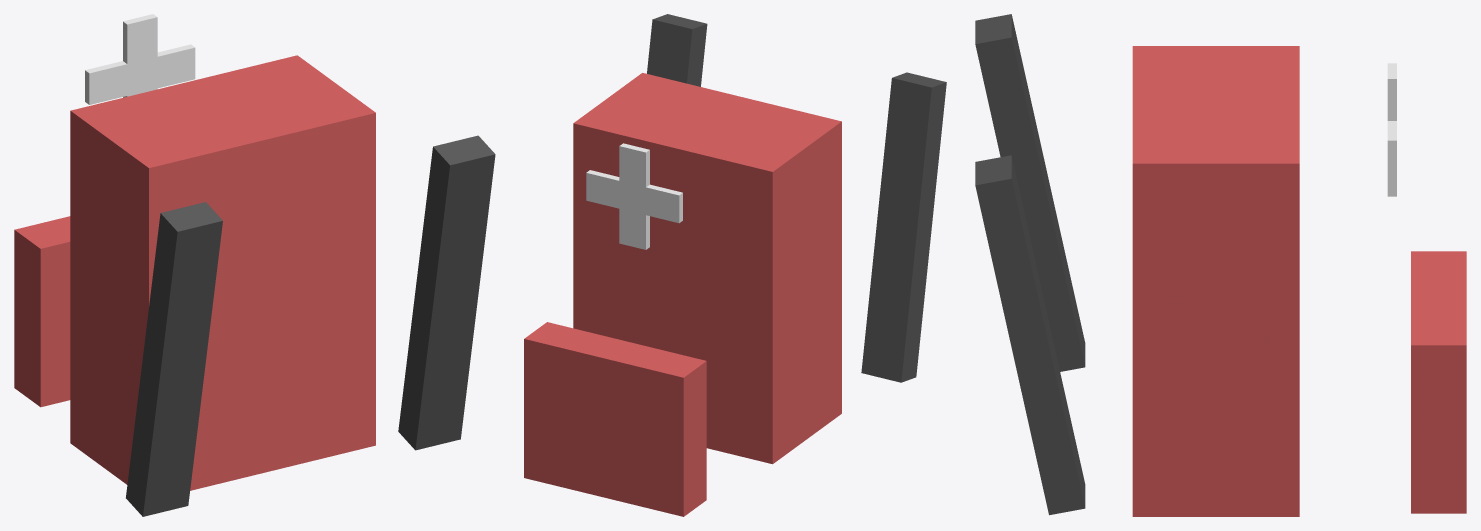
Rendered from EmergencyBag.fbx.
3 views of the same model, side by side, from view 1: azimuth 30°, elevation 25°; view 2: azimuth 150°, elevation 25°; view 3: azimuth 270°, elevation 25° (orthographic). The views are drawn at different scales.
Parts seen in each view (by area): view 1: EmergencyBag; view 2: EmergencyBag; view 3: EmergencyBag.
Boxes of the visible parts, x1,y1,x2,y2 form: EmergencyBag: (14,14,495,516); EmergencyBag: (524,14,946,516); EmergencyBag: (975,14,1466,516).
Bounding box in the file's own units: 21 × 23.5 × 26.47.
